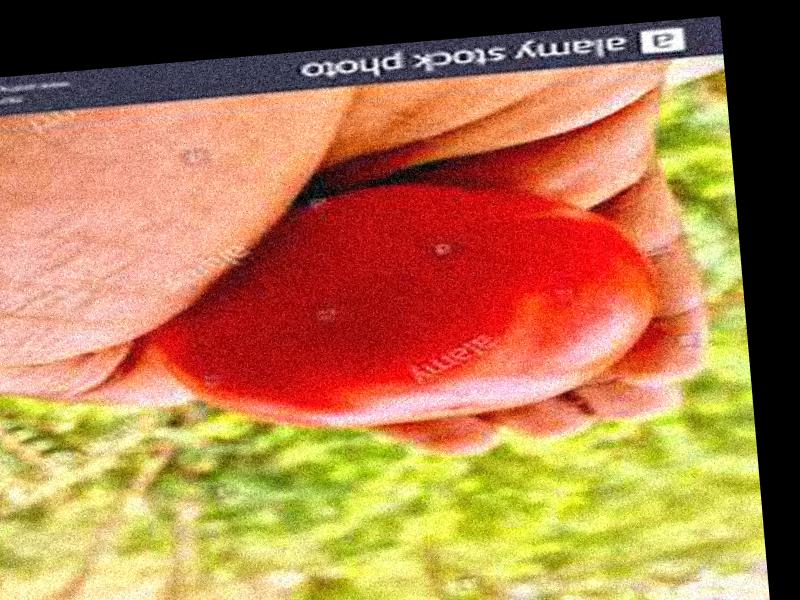Tomato: (150, 166, 662, 439)
